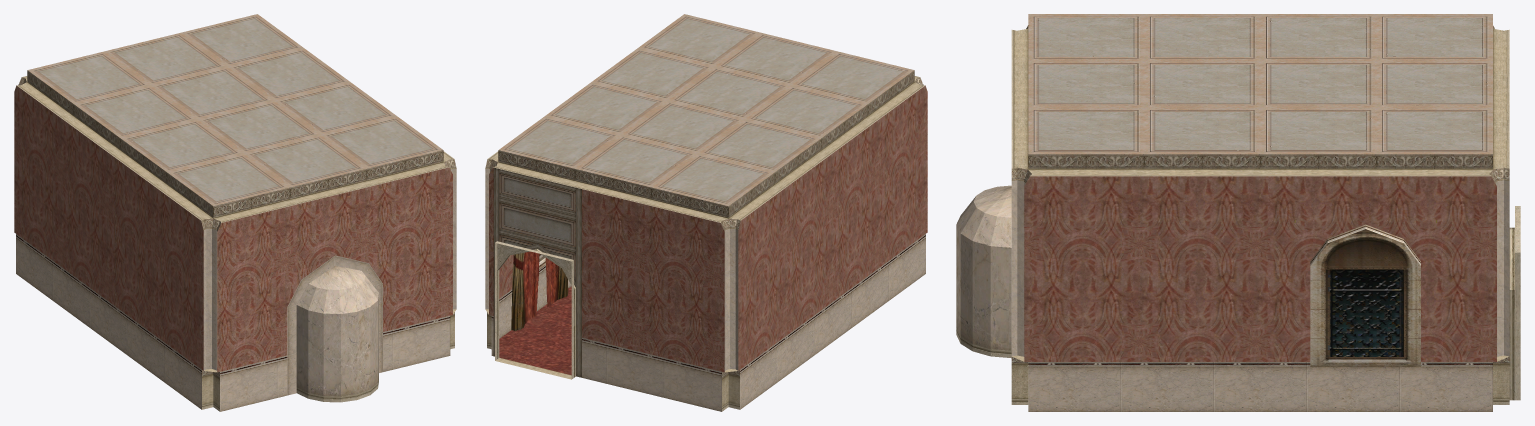
The model's file is ply_nboo_house_lg_s01_fp1_r6_room1_mesh_r6.fbx.
3 views of the same model, side by side, from view 1: azimuth 30°, elevation 25°; view 2: azimuth 150°, elevation 25°; view 3: azimuth 270°, elevation 25° (orthographic). The views are drawn at different scales.
Visible parts, largest first — view 1: mesh_node; view 2: mesh_node; view 3: mesh_node.
Boxes of the visible parts, x1,y1,x2,y2 form: mesh_node: [14, 14, 456, 411]; mesh_node: [485, 14, 927, 411]; mesh_node: [956, 14, 1520, 411].
Size of the model in its own units: 6.8 by 5 by 10.2.
